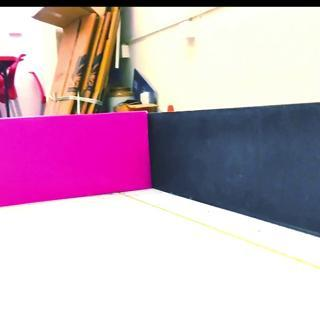xparking: (3, 119, 149, 202)
